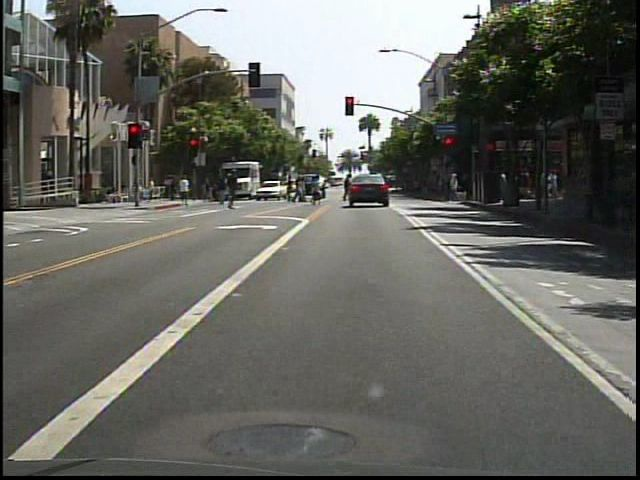person: (355, 165, 376, 209), (221, 171, 243, 212), (307, 174, 325, 208), (177, 176, 194, 209)
